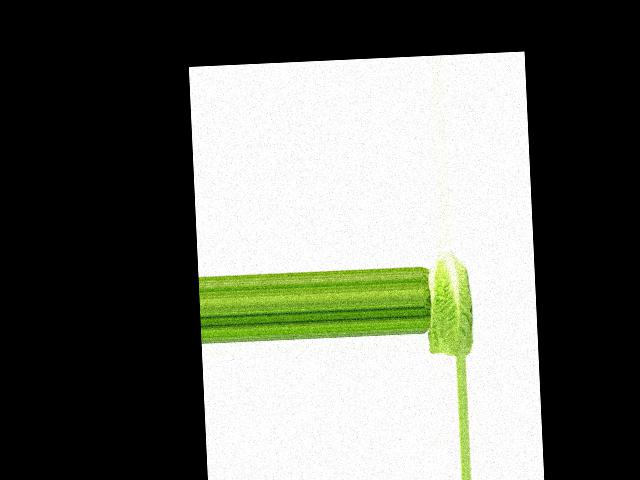lettuce: (426, 250, 481, 358)
